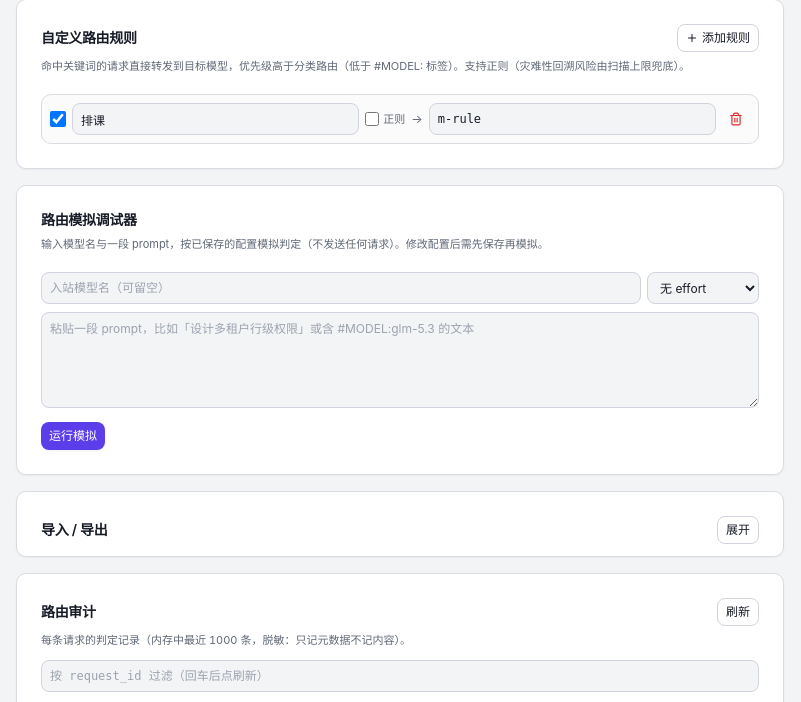
Test: SmartRoutePage › renders the simulator result from ad_simulate_route
(page scrolled)
Expected: the button with test id "simulator-run-button" is shown, [41, 422, 105, 450]
Type "修复排课冲突" into the text box with test id "simulator-prompt-input".
click(400, 360); type("修复排课冲突")  # box [41, 312, 759, 408]
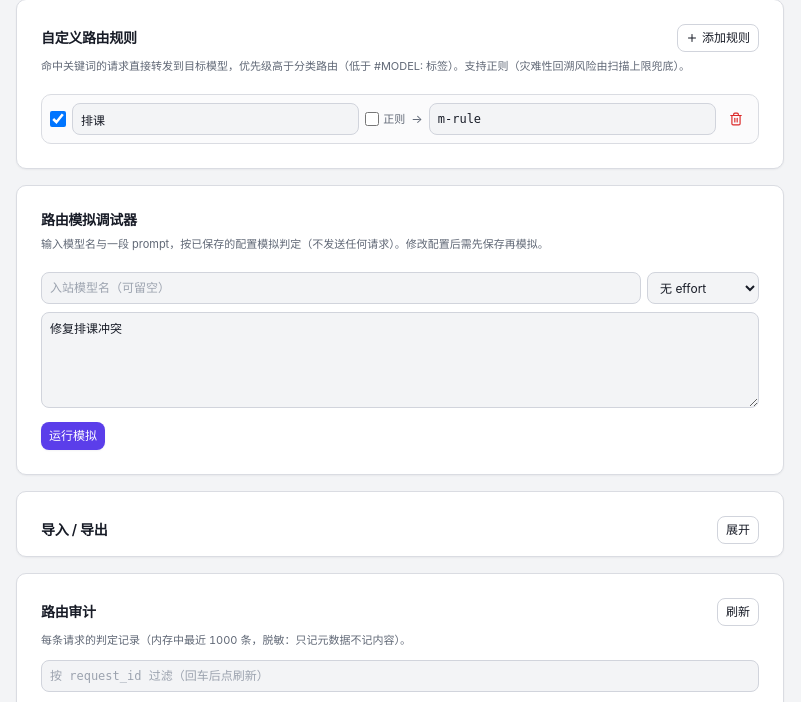
Click the button with test id "simulator-run-button".
click(73, 436)  # box [41, 422, 105, 450]
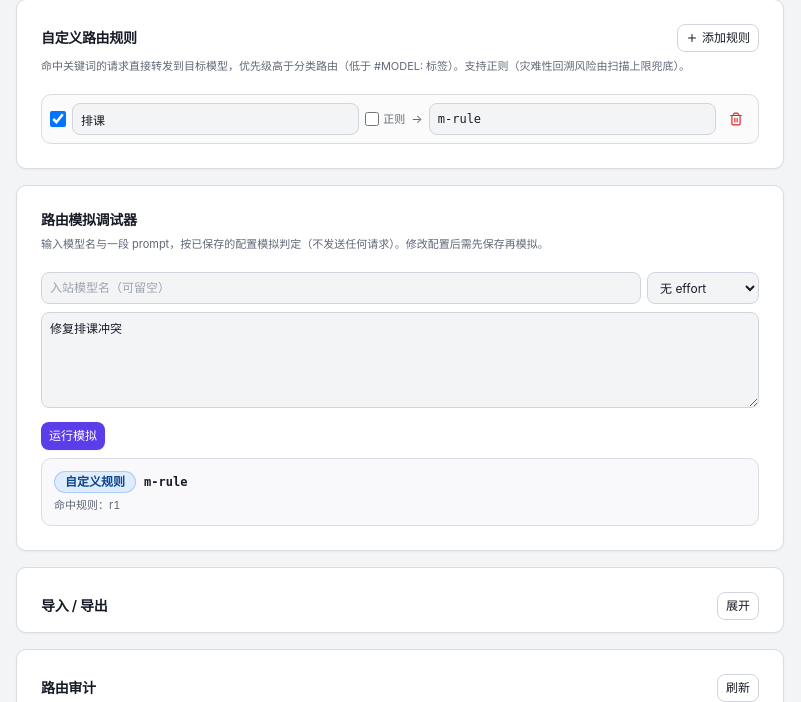
Now the element with test id "simulator-result" shows "m-rule", box [144, 475, 187, 489]
Now the element with test id "simulator-result" shows "命中规则：r1", box [41, 458, 759, 526]
